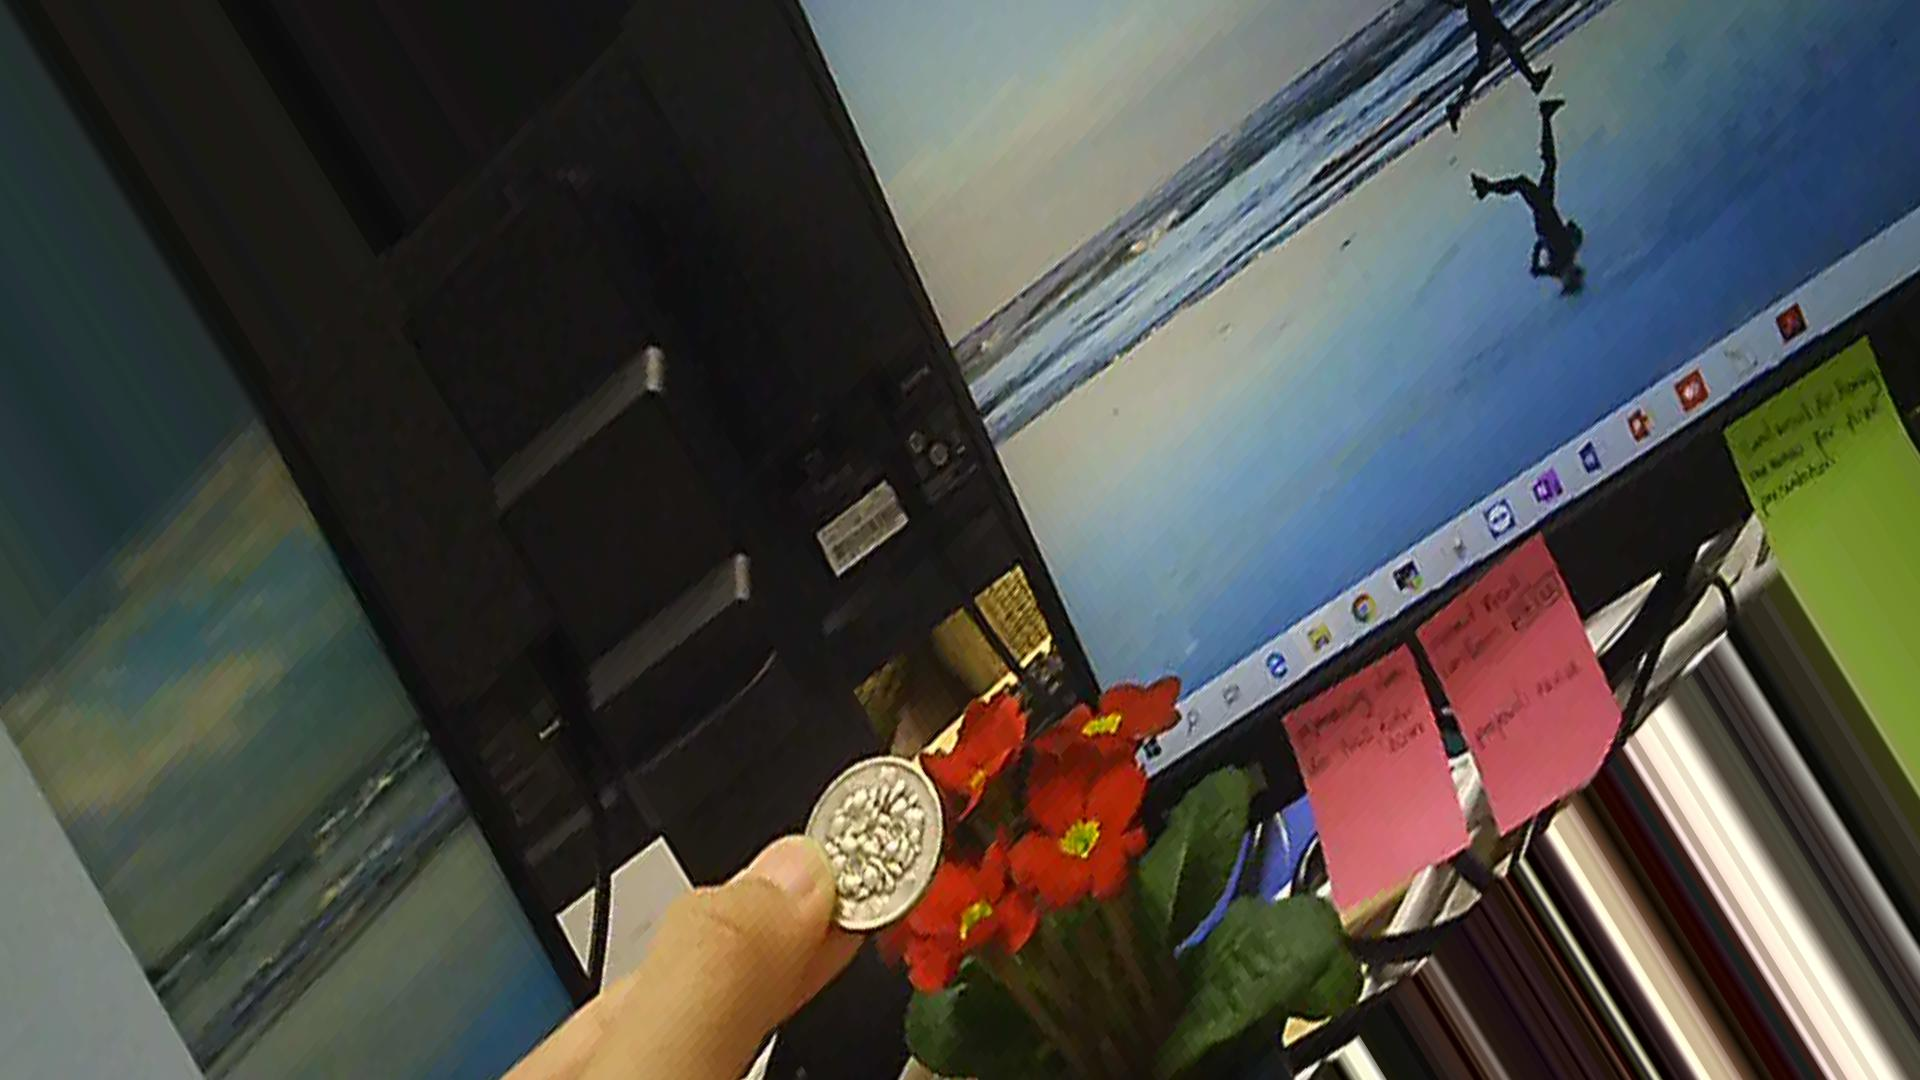100 Yen: (783, 761, 942, 919)
